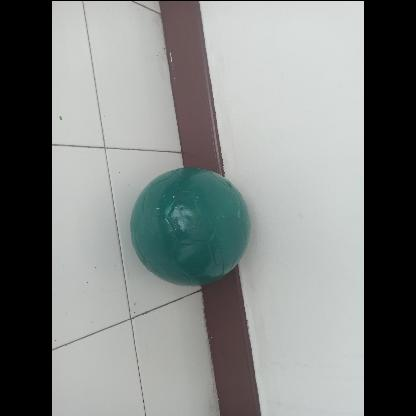green_ball: (132, 166, 252, 286)
